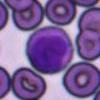M: (26, 26, 74, 74)
